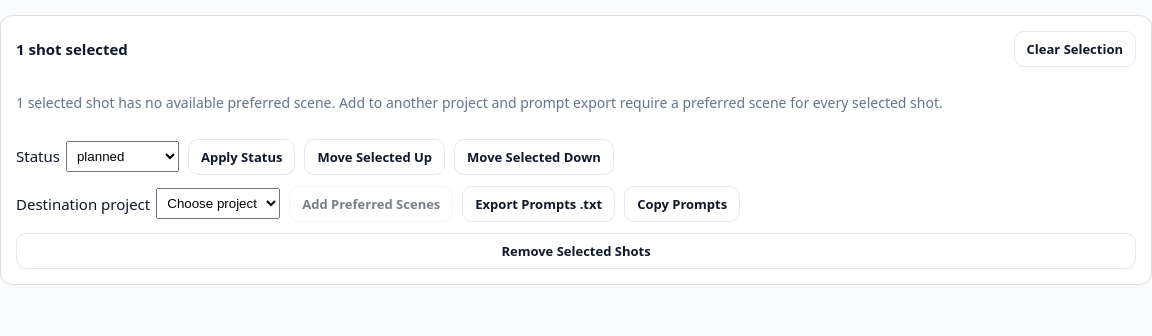
Test: reports missing preferred scenes instead of silently skipping selected shots
The width and height of the screenshot is (1152, 336).
Expected: the text "1 selected shot has no available preferred scene" is shown, [16,93,943,112]
Click the button "Copy Prompts": [682, 204] box [624,186,740,222]
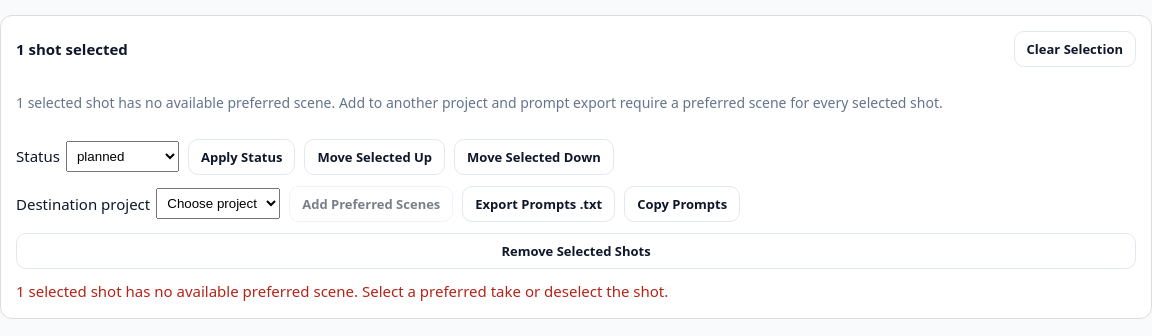
Expected: the message shows "no available preferred scene", [16,281,668,301]
